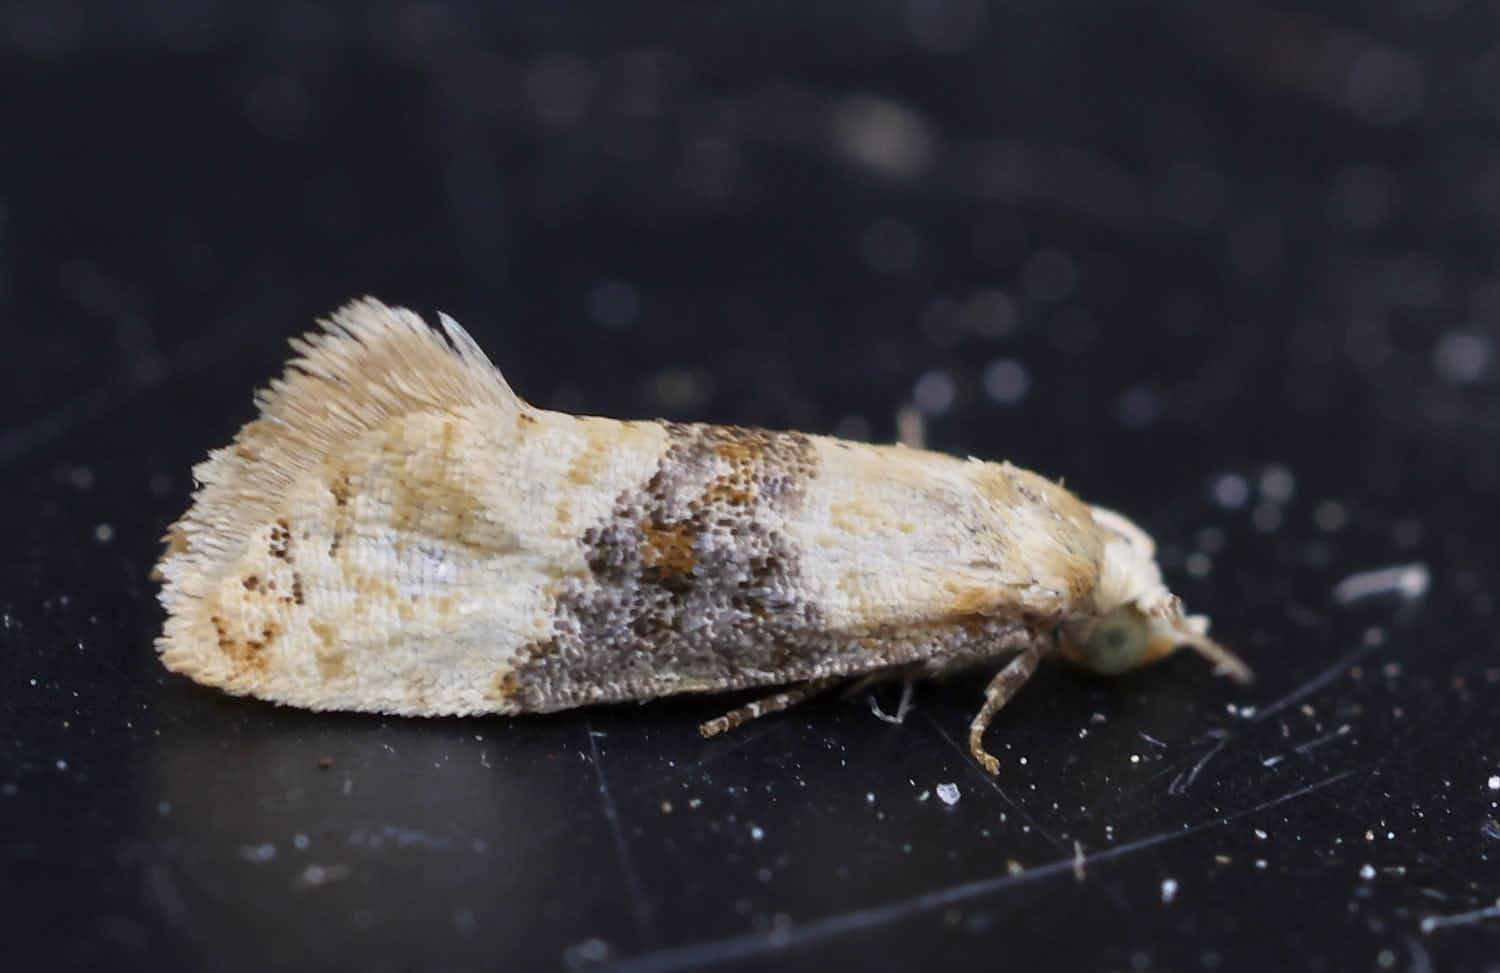Eupoecilia Ambiguella: (147, 291, 1254, 779)
